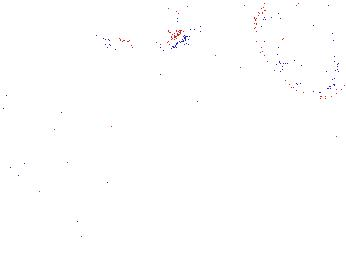moon jellyfish: (254, 1, 346, 100), (105, 1, 192, 53), (1, 9, 38, 97)
